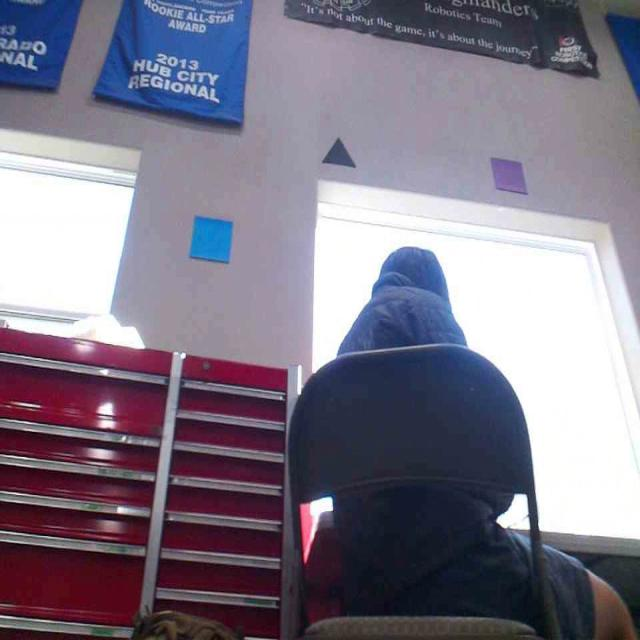square_blue: (186, 215, 233, 263)
square_purple: (489, 155, 528, 193)
triangle_black: (320, 133, 355, 168)
